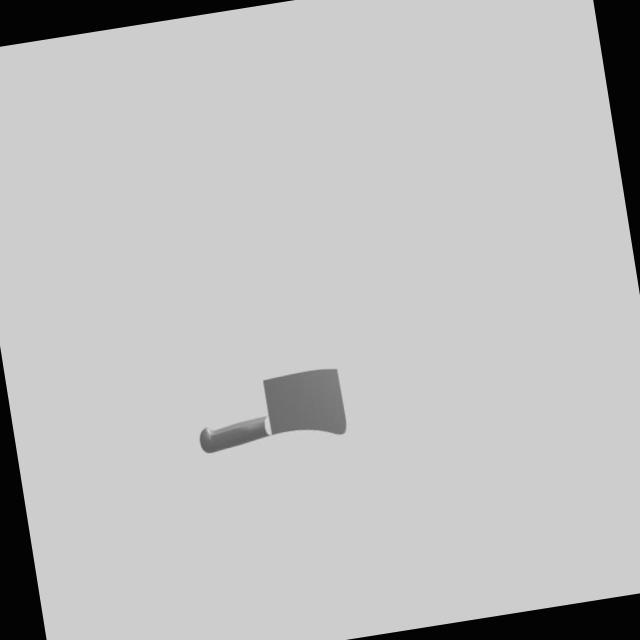knife: (198, 415, 273, 454)
